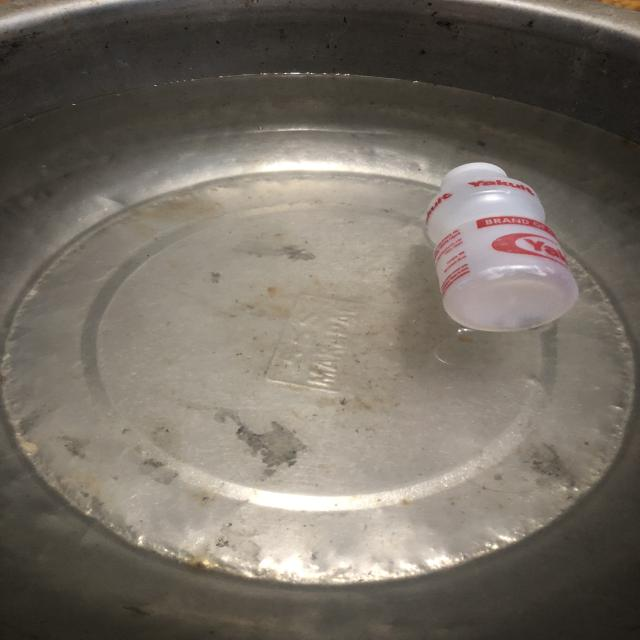Plastic Bottle: (426, 163, 578, 331)
